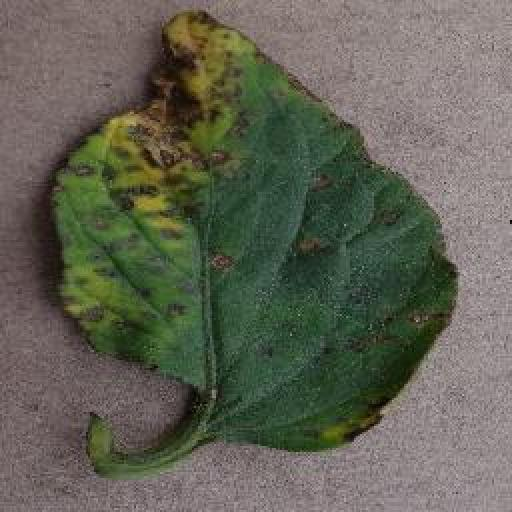Bacterial Spot: (43, 2, 465, 484)
